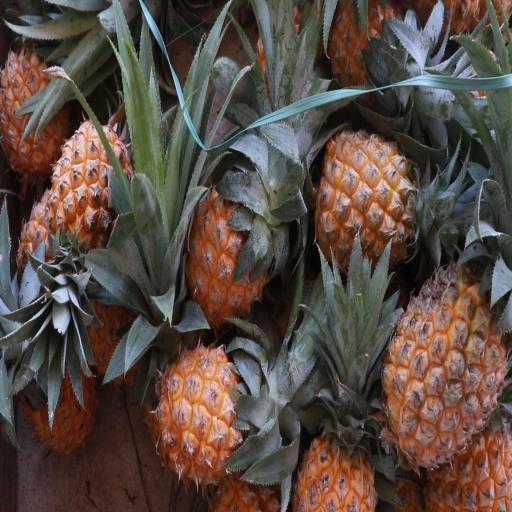Pineapple - v8 v1: (381, 253, 512, 479), (310, 126, 448, 292), (152, 337, 287, 492), (181, 161, 289, 333), (40, 112, 150, 278), (292, 366, 382, 512), (0, 33, 84, 185)
